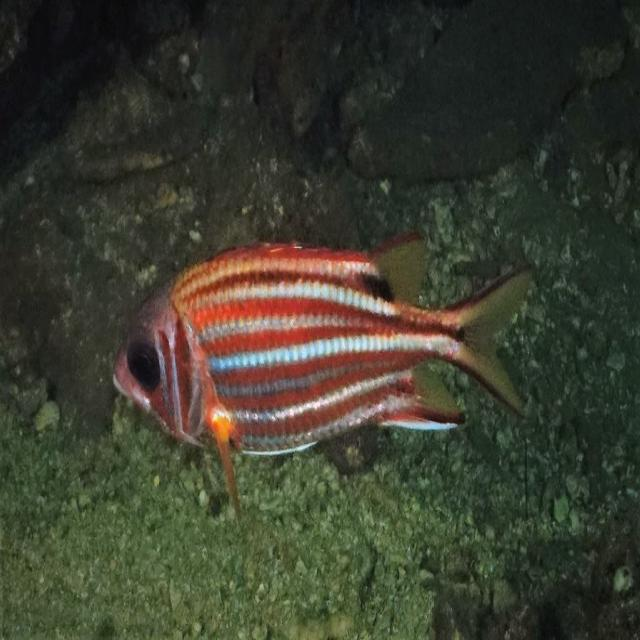Asker Baligi: (106, 227, 540, 524)
